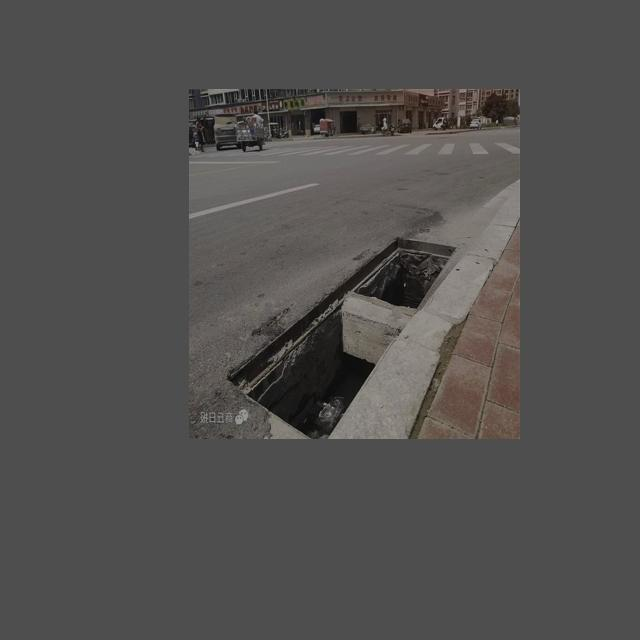lose: (225, 231, 467, 435)
